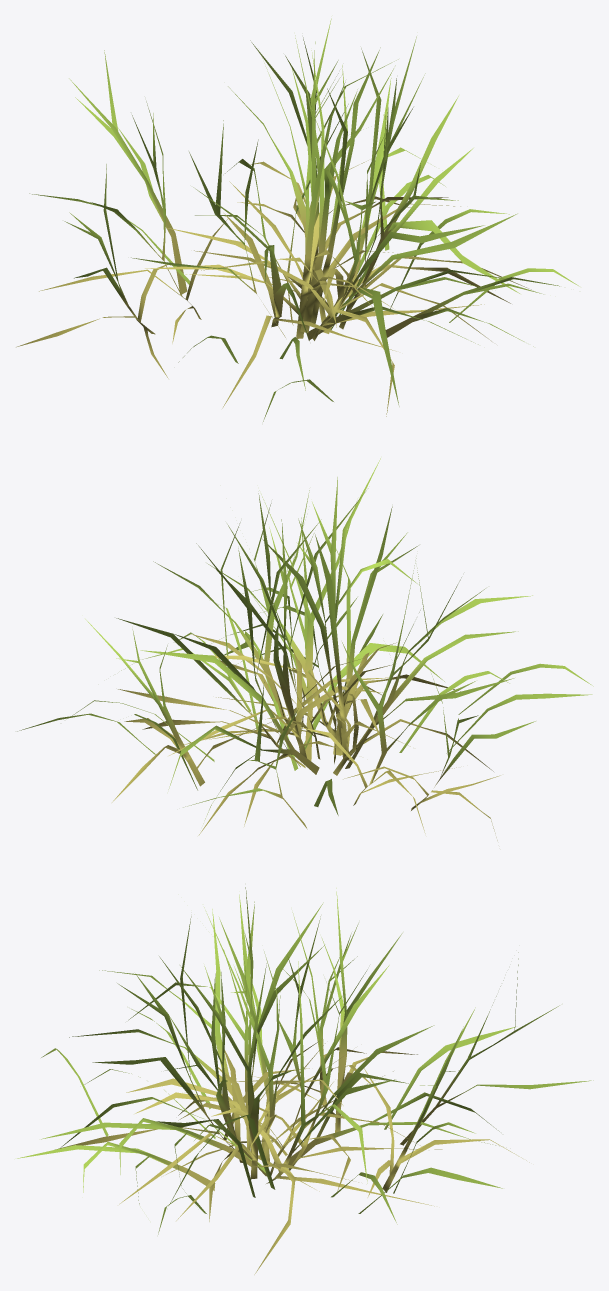
Rendered from capim_bq_d.glb.
3 renders of one model, top to bottom at view 1: azimuth 30°, elevation 25°; view 2: azimuth 150°, elevation 25°; view 3: azimuth 270°, elevation 25°, orthographic. The views are drawn at different scales.
Visible parts, largest first — view 1: capim_bq_d; view 2: capim_bq_d; view 3: capim_bq_d.
Part boxes in pixels (box(x1,y1,x2,y2)): capim_bq_d: box(16, 18, 579, 421); capim_bq_d: box(17, 458, 593, 840); capim_bq_d: box(17, 887, 593, 1274).
Size of the model in its own units: 14.95 by 10 by 17.33.
1 material, 1 textured.
